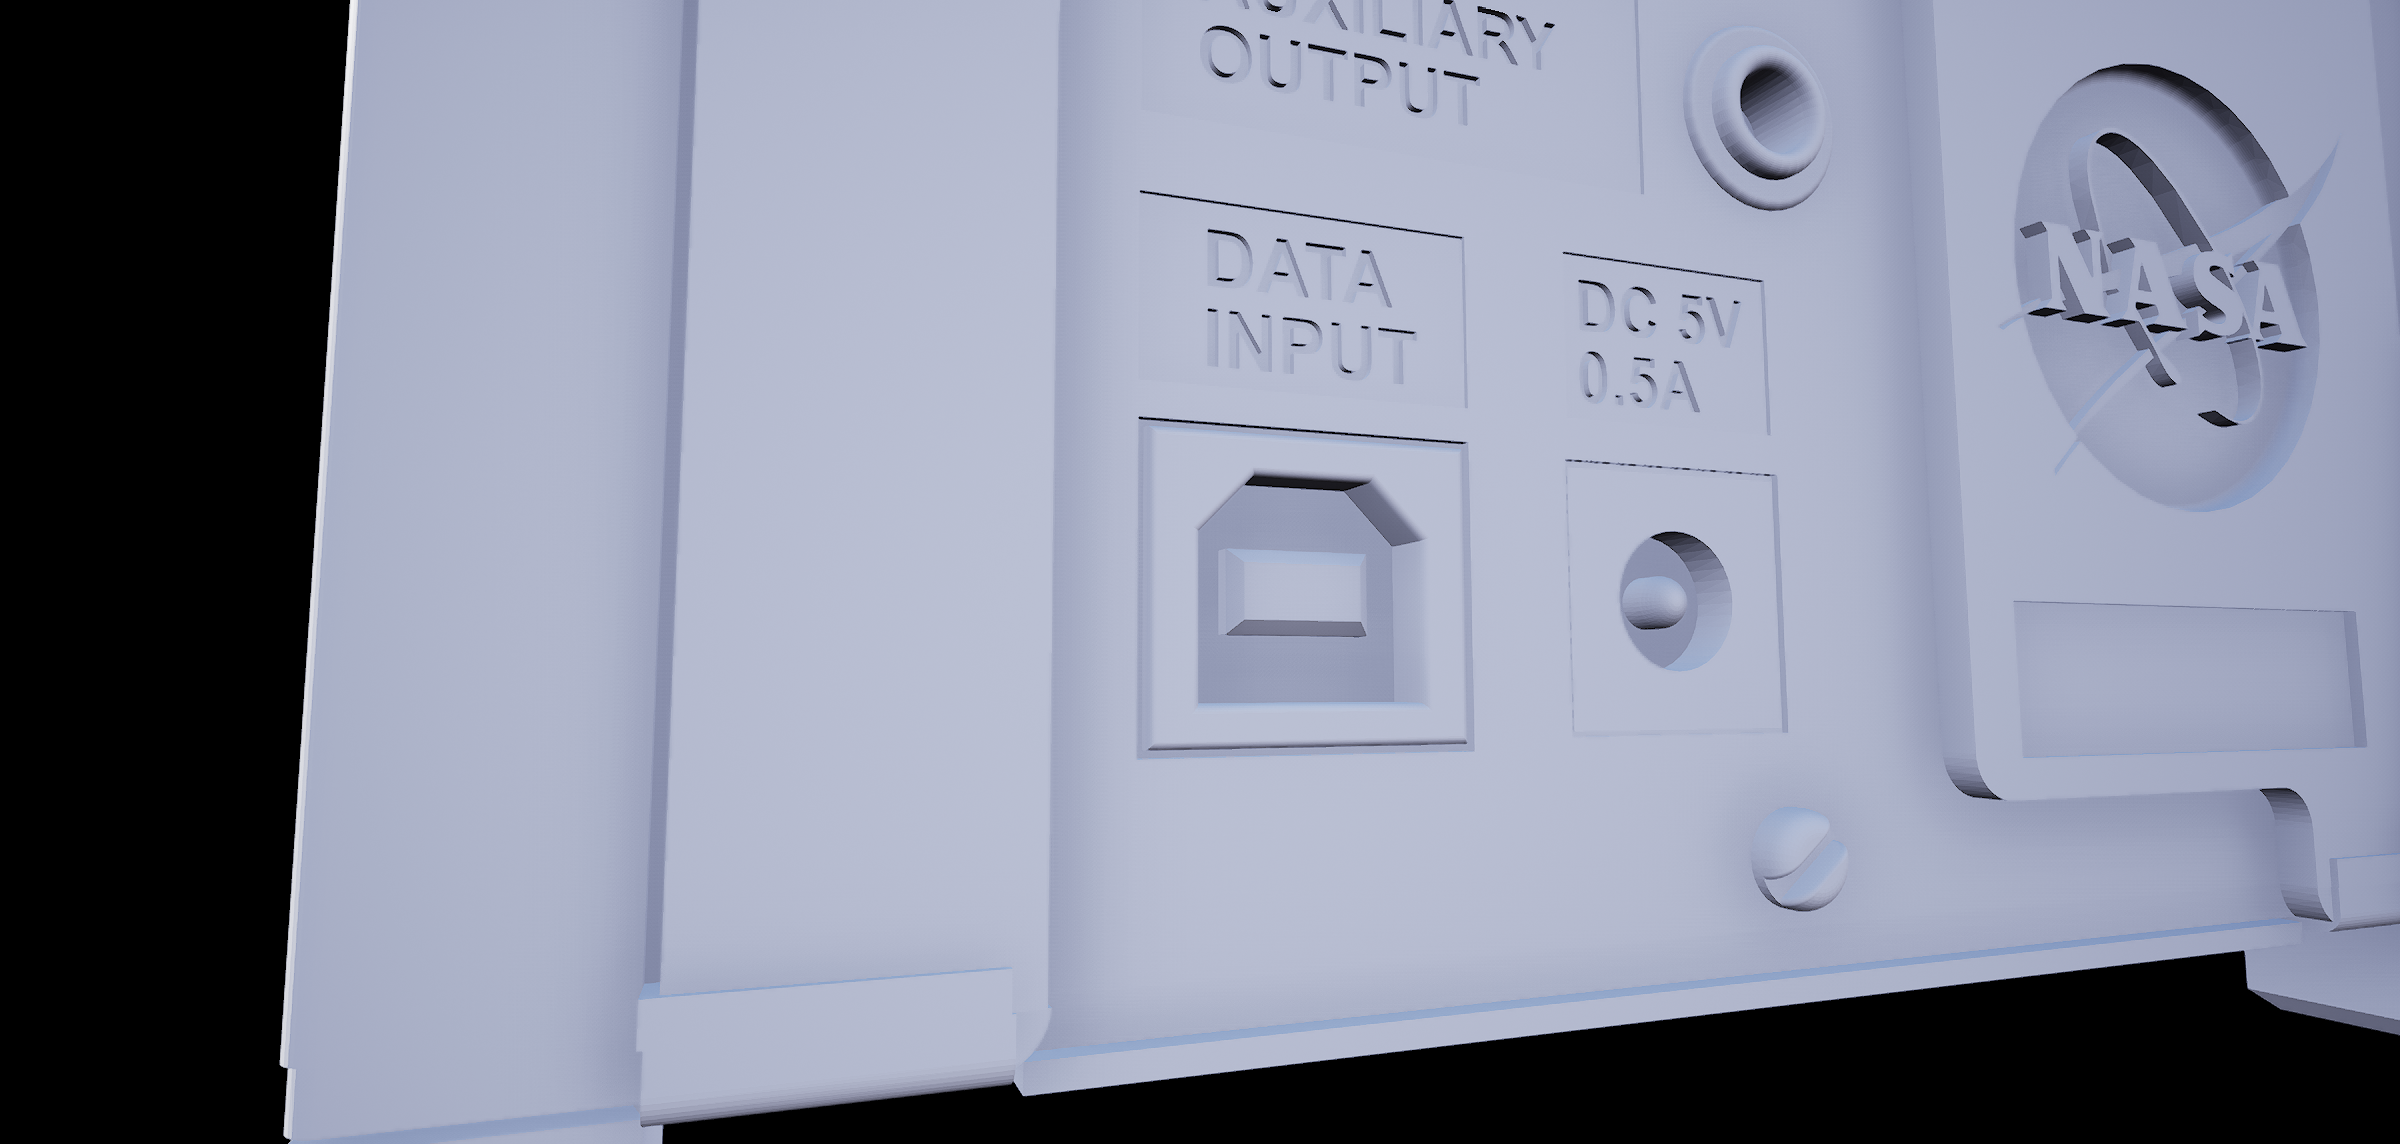aux: (1681, 18, 1860, 237)
dc: (1607, 519, 1749, 691)
usb: (1183, 446, 1445, 734)
